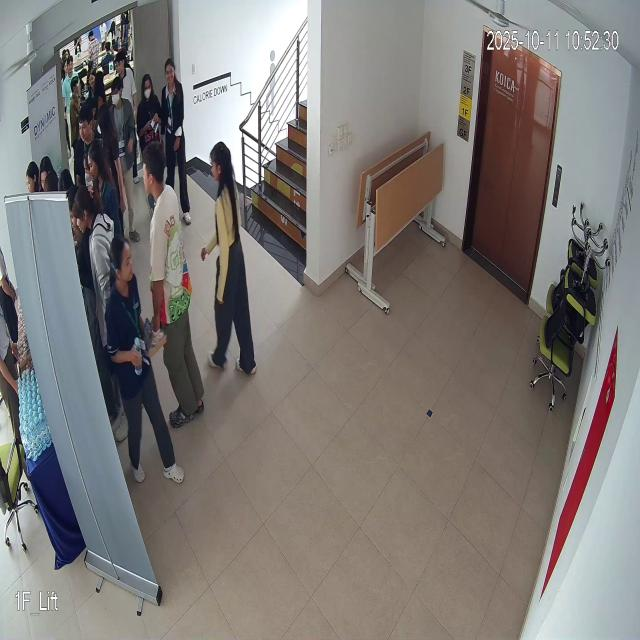face: (107, 232, 140, 288)
